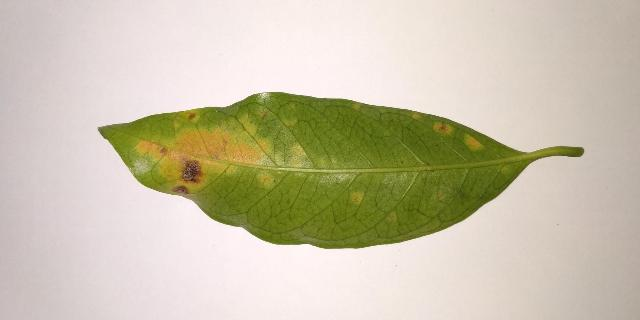miner: (135, 116, 269, 198), (288, 146, 306, 166), (256, 174, 274, 188), (466, 135, 481, 149), (433, 123, 452, 134), (351, 192, 363, 203), (186, 112, 199, 122)
